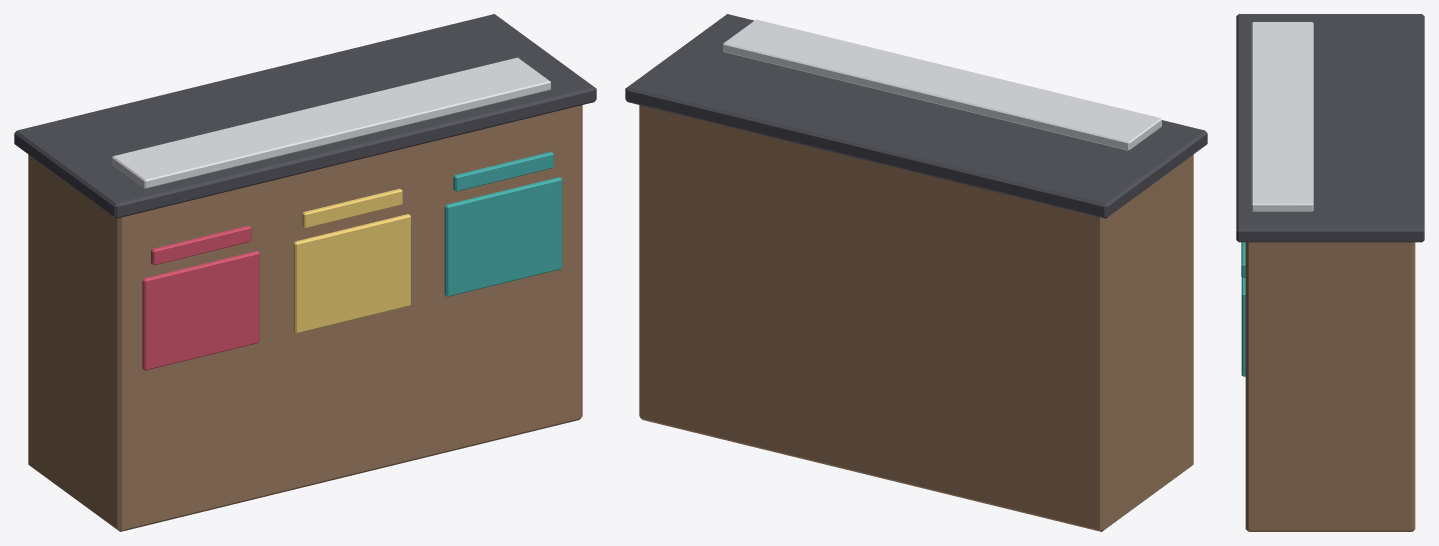
The model's file is cinema-multiplex-and-foyer-waste-bin-bank-922932db__34672.glb.
The picture shows the model from 3 angles, left to right: view 1: azimuth 30°, elevation 25°; view 2: azimuth 150°, elevation 25°; view 3: azimuth 270°, elevation 25°; orthographic projection. The views are drawn at different scales.
Visible parts, largest first — view 1: waste-bin-bank; view 2: waste-bin-bank; view 3: waste-bin-bank.
Part boxes in pixels (x1=…): waste-bin-bank: x1=14, y1=14, x2=596, y2=531; waste-bin-bank: x1=625, y1=14, x2=1207, y2=531; waste-bin-bank: x1=1236, y1=14, x2=1424, y2=531.
Bounding box in the file's own units: 1.66 × 1.13 × 0.61.
